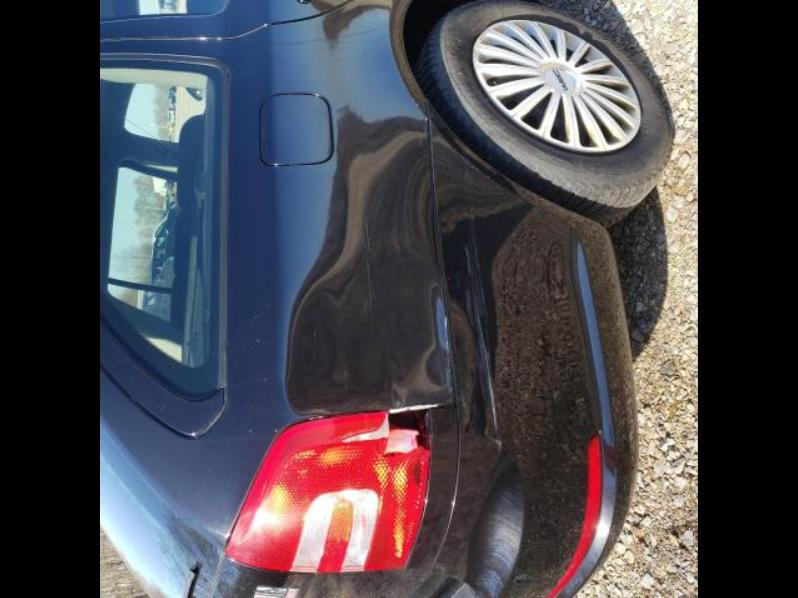Broken part: (224, 408, 430, 572)
Dent: (287, 241, 487, 436)
Scratch: (462, 210, 502, 457), (363, 217, 377, 312), (444, 315, 453, 391), (344, 364, 349, 389), (312, 328, 318, 339)
